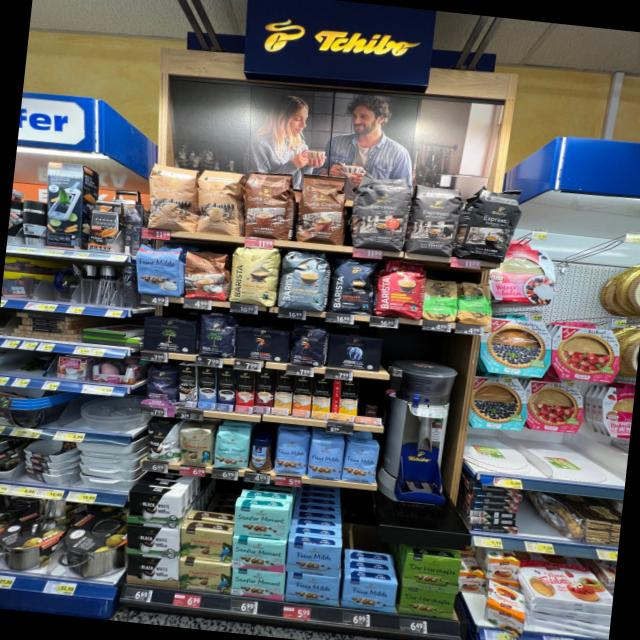AB Gemahlen: (322, 332, 386, 372)
Athiopien Bohne: (456, 281, 495, 328)
Athiopien Gemahlen: (421, 277, 460, 322)
BM Bohne: (194, 312, 240, 359)
BM Gemahlen: (141, 315, 198, 355)
BW Bohne: (144, 420, 180, 463)
BW Gemahlen: (126, 491, 179, 529), (125, 524, 180, 559), (124, 554, 179, 589)
Barista CB: (226, 243, 284, 309)
Barista CC: (275, 247, 335, 313)
Barista Espresso: (326, 254, 381, 316)
Barista Kolumbien: (374, 257, 430, 321)
C Fino Bohne: (142, 365, 178, 406)
CC Mild: (146, 160, 202, 231), (194, 168, 247, 238)
CC Vollmundig: (181, 246, 232, 301)
CC Vollmundig 36 Pads: (292, 173, 352, 246), (242, 170, 295, 241)
Colombia BB Bohne: (177, 426, 216, 467)
Colombia BB Gemahlen: (180, 527, 233, 563), (177, 559, 231, 594)
Empty Shelf: (342, 530, 398, 577), (355, 381, 388, 425)
Espresso Aromatisch: (348, 173, 416, 253), (402, 180, 466, 259)
Espresso Kraftig: (452, 184, 528, 266)
FM 36 Pads: (134, 241, 186, 298)
FM Bohne: (340, 437, 384, 485), (272, 431, 312, 477), (306, 437, 346, 482)
FM Gemahlen: (285, 541, 343, 579), (342, 577, 397, 614), (284, 572, 341, 607)
FM Instant: (246, 436, 276, 474)
Herzhatfe Mundig: (401, 552, 462, 594), (397, 585, 457, 619)
LG Bohne: (286, 322, 330, 368)
LG Gemahlen: (233, 325, 292, 364)
SM Bohne: (211, 427, 253, 471)
SM Gemahlen: (233, 505, 290, 540), (230, 537, 286, 572), (230, 567, 285, 601)
Simo CCMild: (330, 378, 361, 423)
Simo CCMild bigpack: (310, 375, 333, 419)
Simo CCVollmundig bigpack: (292, 375, 314, 418)
Simo Decaff: (272, 372, 294, 415)
Simo Es Brazil: (233, 369, 256, 413)
Simo Es Caramel: (251, 370, 276, 414)
Simo Es Elegant: (177, 364, 196, 407)
Simo Es Kraft: (214, 367, 237, 411)
Simo Es Vanilla: (196, 364, 218, 410)
